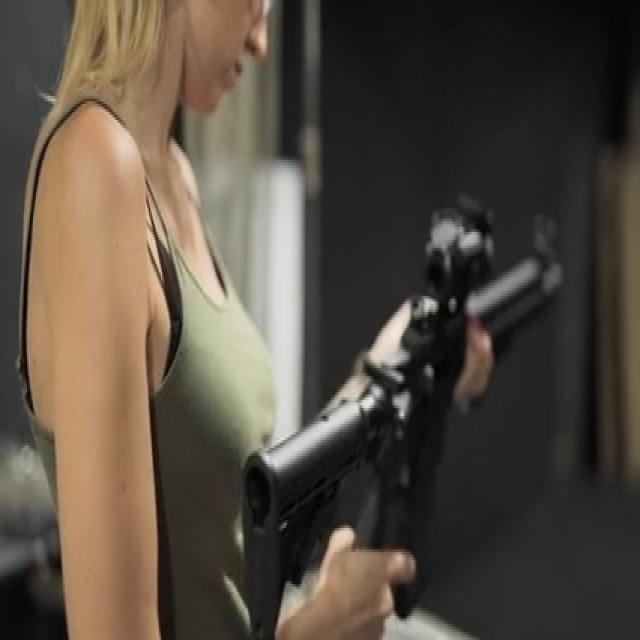Gun_Holder: (228, 224, 640, 640)
Person: (28, 0, 414, 640)
